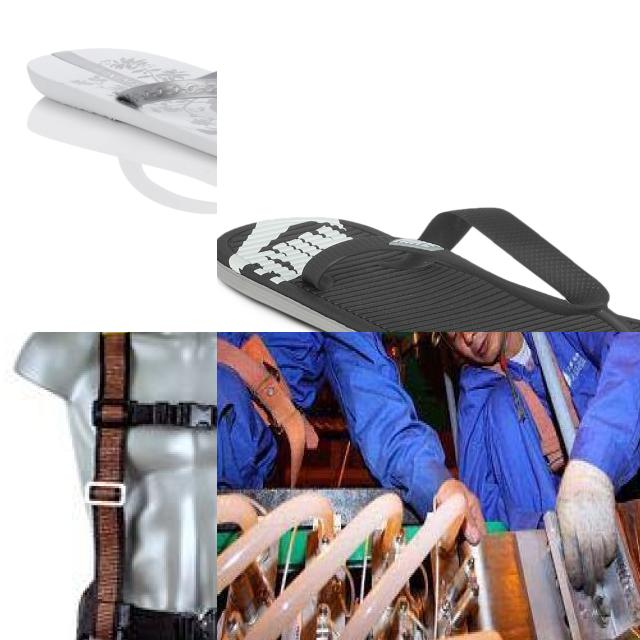Harness: (67, 332, 217, 640), (217, 335, 316, 488)
Sandals: (217, 206, 640, 332), (25, 45, 217, 180)
